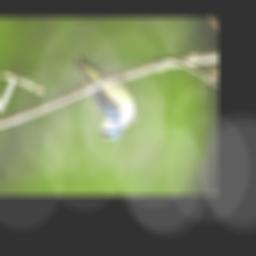Swallow: (70, 55, 140, 139)
